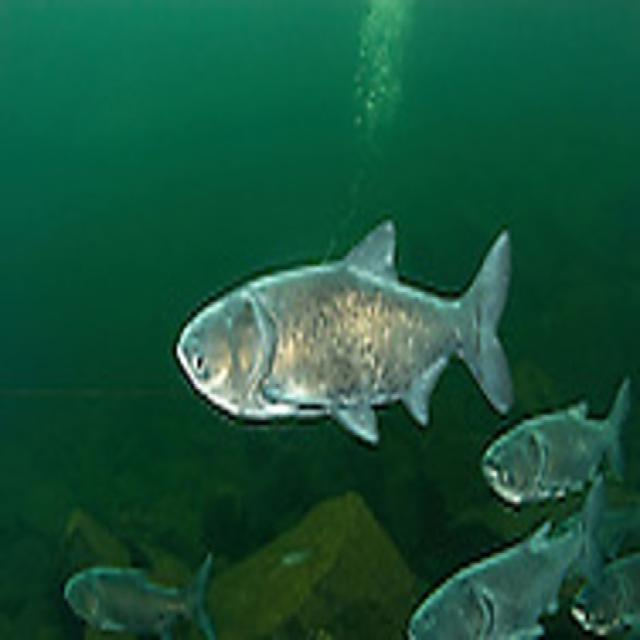Big-Head-Carp: (121, 185, 525, 451), (143, 193, 510, 199), (528, 199, 536, 447)
